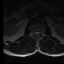CCS_normal: (36, 28, 38, 38)
LFS_normal: (40, 29, 42, 36)
LLS_normal: (38, 29, 40, 36)
RFS_stenosis: (32, 29, 34, 35)
RLS_normal: (34, 29, 36, 36)
